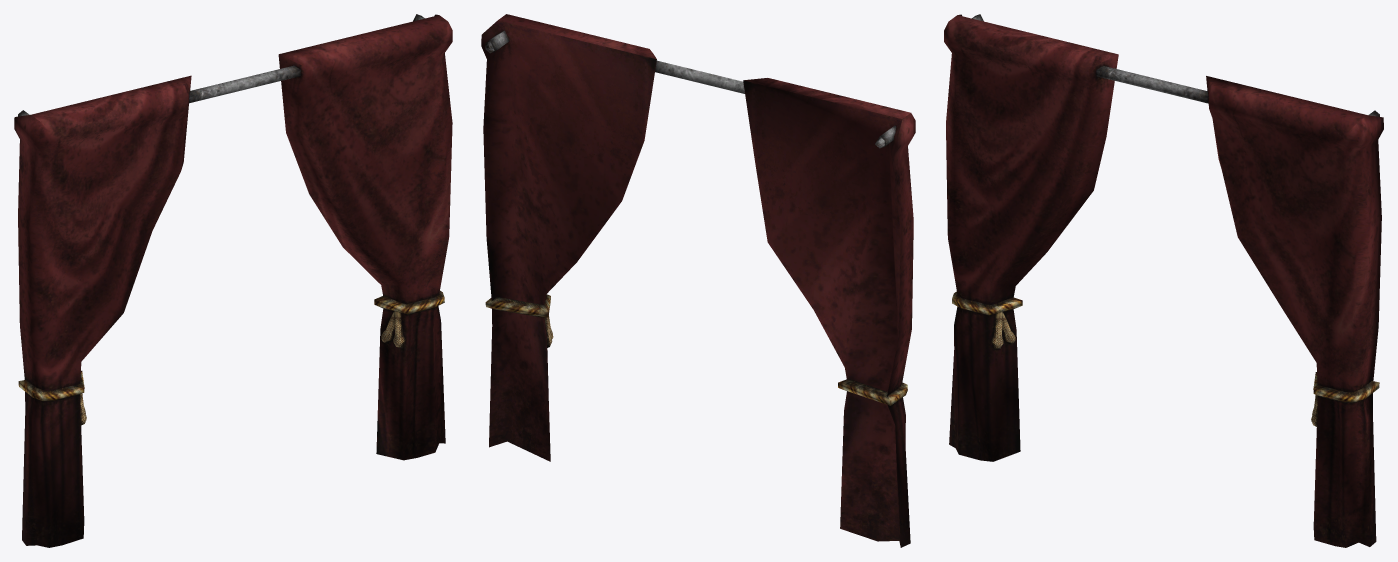
The model's file is curtain01_open.dae.
3 views of the same model, side by side, from view 1: azimuth 30°, elevation 25°; view 2: azimuth 150°, elevation 25°; view 3: azimuth 330°, elevation 25° (orthographic).
Parts seen in each view (by area): view 1: curtain01_open; view 2: curtain01_open; view 3: curtain01_open.
Boxes of the visible parts, x1=… form: curtain01_open: x1=14, y1=14, x2=452, y2=547; curtain01_open: x1=481, y1=14, x2=915, y2=547; curtain01_open: x1=944, y1=14, x2=1383, y2=547.
Bounding box in the file's own units: 3.75 × 3.68 × 0.4366.
